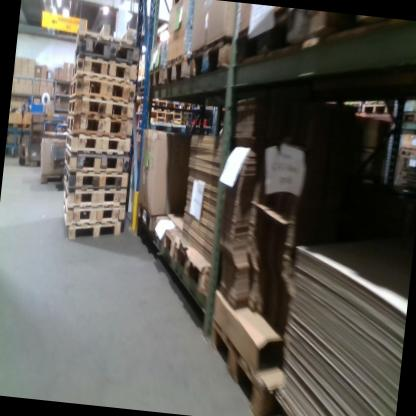pallet: (201, 312, 292, 416), (188, 31, 237, 93), (170, 238, 215, 296), (68, 75, 131, 104), (150, 210, 184, 263), (66, 216, 120, 248), (61, 200, 118, 230), (61, 165, 122, 193), (64, 113, 128, 138), (73, 57, 132, 84), (64, 131, 127, 156), (74, 39, 136, 64), (67, 95, 130, 119), (162, 47, 192, 95), (62, 185, 121, 209), (63, 151, 124, 174), (131, 196, 161, 237), (77, 22, 133, 43), (359, 99, 392, 122), (147, 62, 163, 96), (401, 105, 416, 127), (397, 145, 416, 162)
pallet_truck: (11, 98, 37, 172)
stillage: (25, 109, 55, 171)
